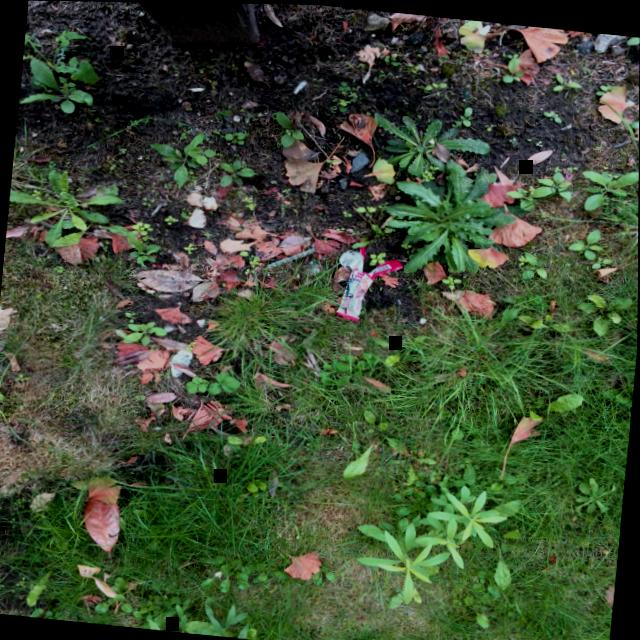Other plastic: (335, 245, 403, 320)
Plastic film: (266, 246, 315, 266)
